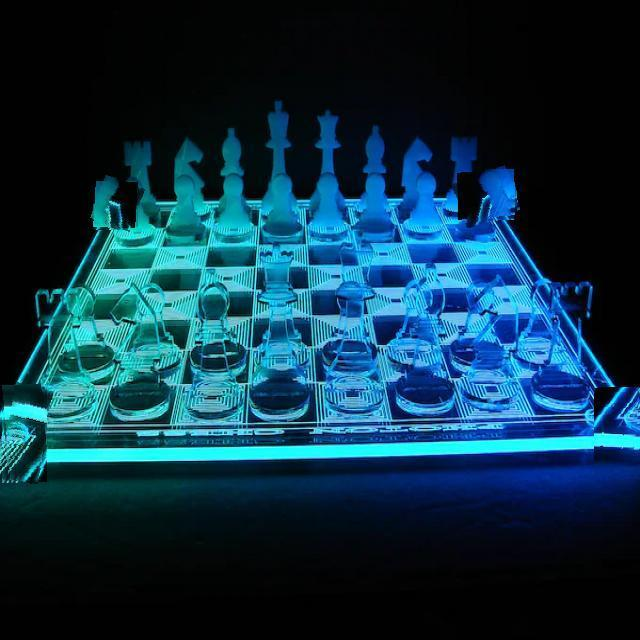chess-table-corners: (0, 384, 47, 485), (594, 387, 640, 466), (454, 169, 517, 224), (93, 178, 142, 230)
